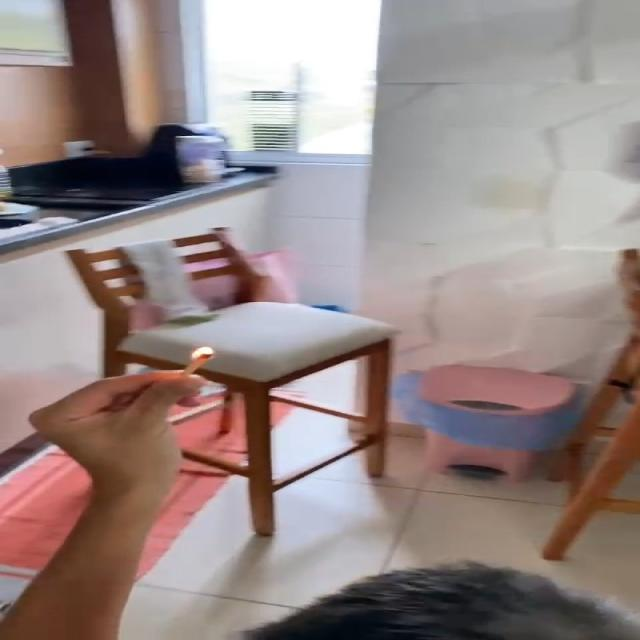fogo-ypXI: (190, 346, 216, 361)
